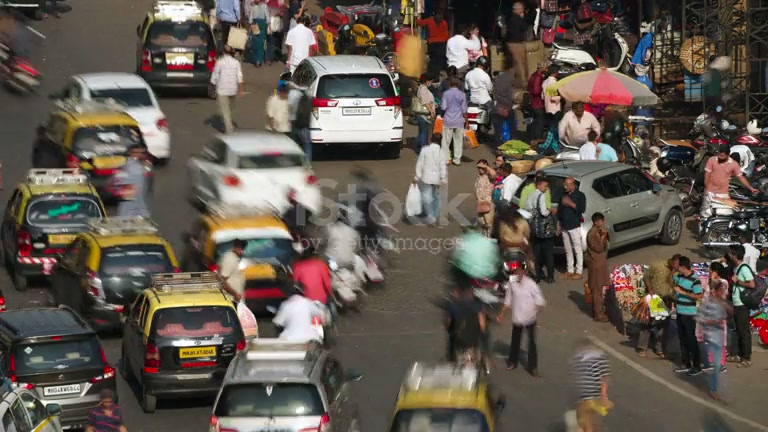car: (117, 275, 248, 413), (50, 221, 182, 335), (0, 304, 118, 423), (543, 160, 686, 254), (0, 170, 109, 291), (185, 130, 321, 224), (31, 97, 154, 200), (287, 54, 404, 160), (60, 71, 173, 165), (388, 361, 507, 431), (133, 3, 217, 97), (184, 210, 300, 277), (208, 376, 333, 432), (0, 376, 64, 431)
motorcycle: (0, 375, 64, 431), (0, 48, 43, 95)
pedestrian: (499, 260, 546, 378), (701, 141, 763, 226), (695, 278, 734, 405), (565, 336, 614, 432), (291, 239, 337, 334), (441, 277, 488, 368), (521, 172, 558, 284), (671, 255, 704, 375), (209, 46, 245, 134), (414, 131, 447, 227), (556, 175, 587, 276), (584, 212, 611, 322), (439, 73, 468, 166), (282, 14, 318, 79), (558, 100, 602, 148), (85, 389, 127, 432), (474, 160, 496, 235), (578, 129, 619, 161)
